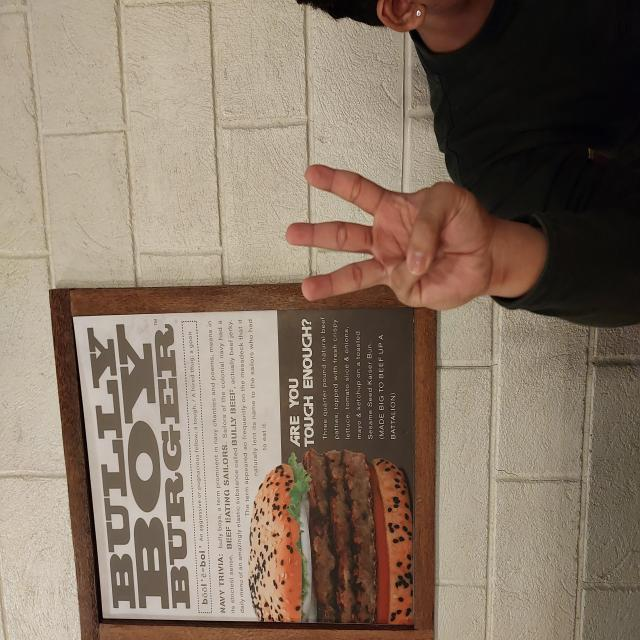W: (328, 283, 478, 493)
